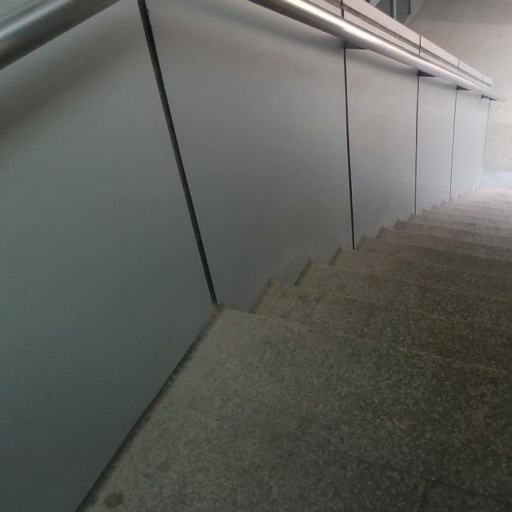Stairs: (80, 188, 512, 512)
